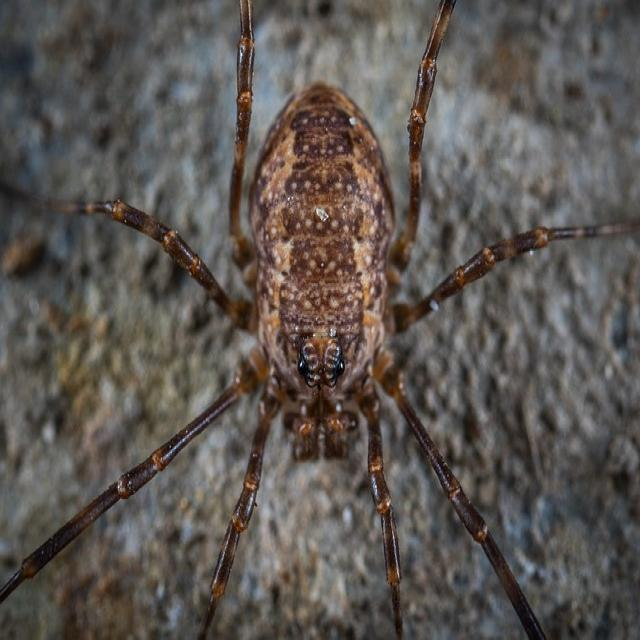spyder: (0, 0, 640, 638)
